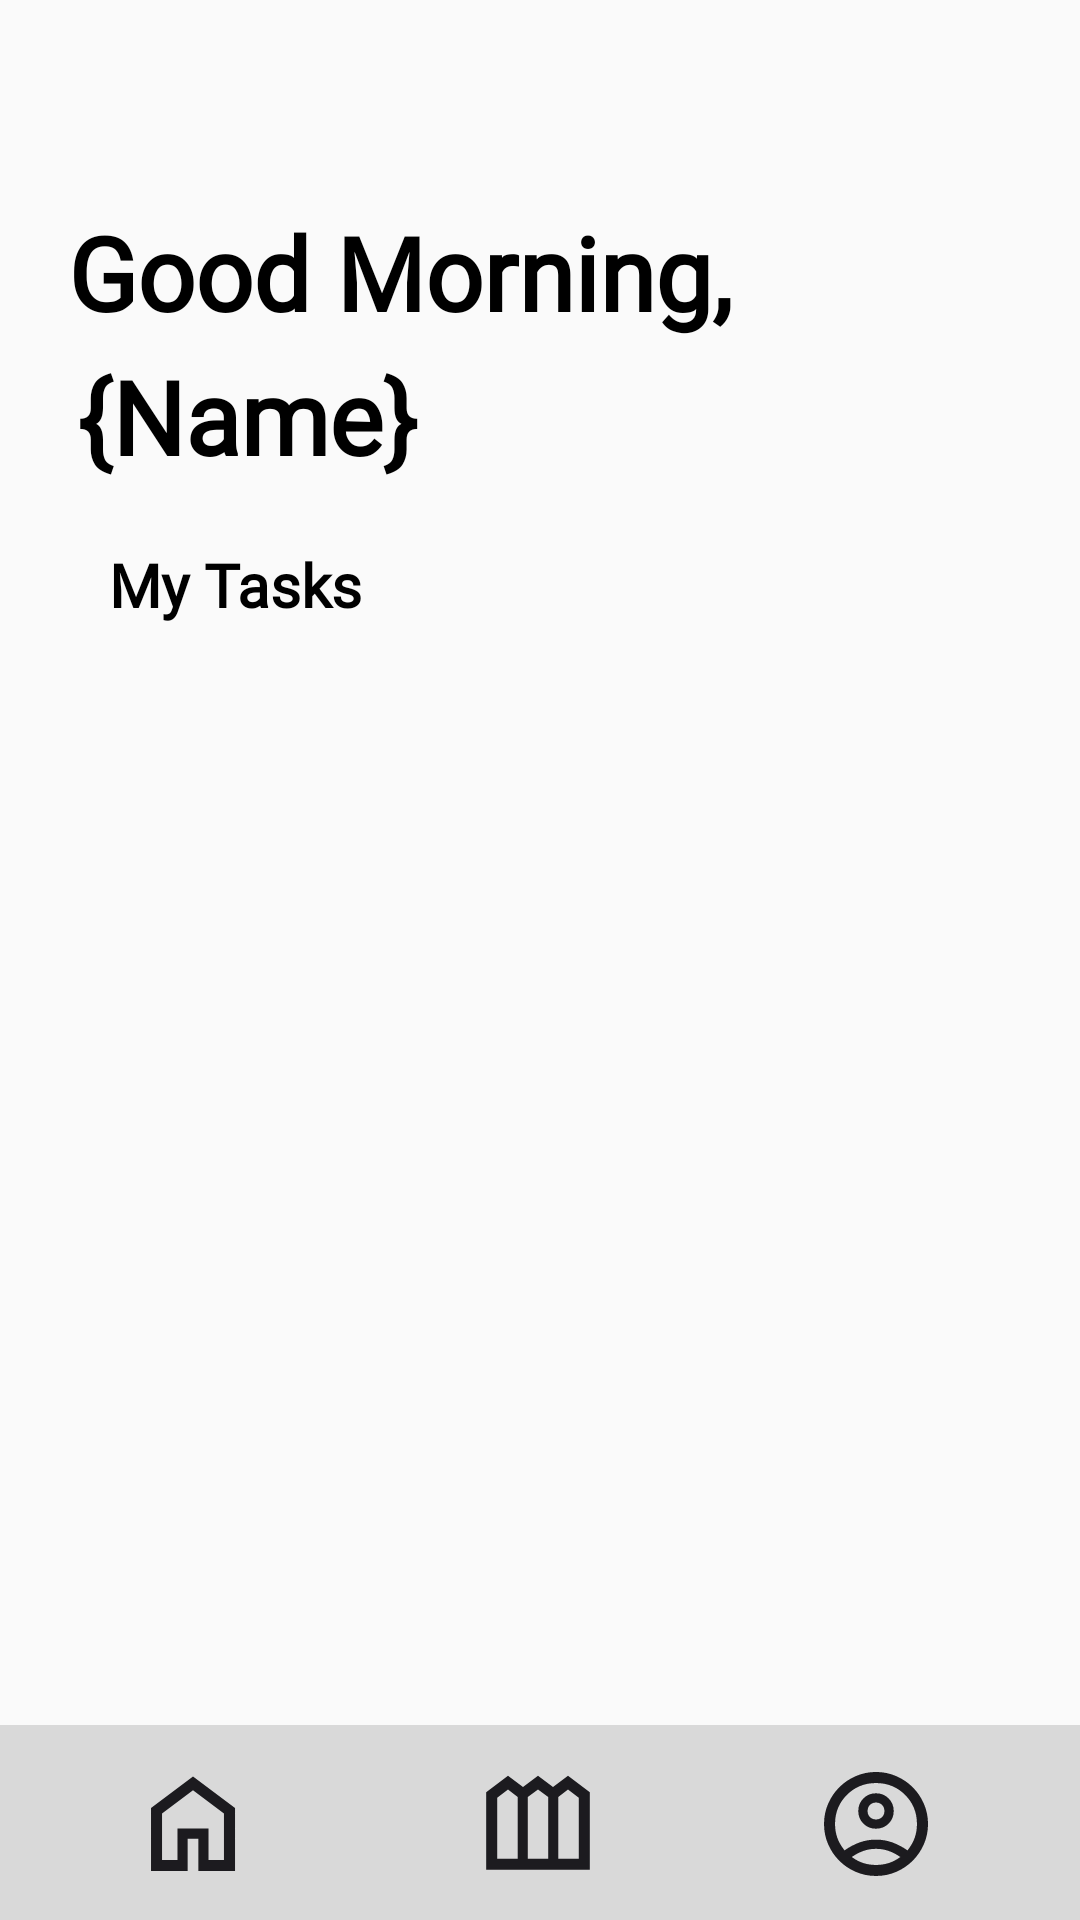

Where to tap for icons on this 1080px x 1920px app screen, as [x,y]:
home: [193,1823]
outdoor garden: [538,1823]
